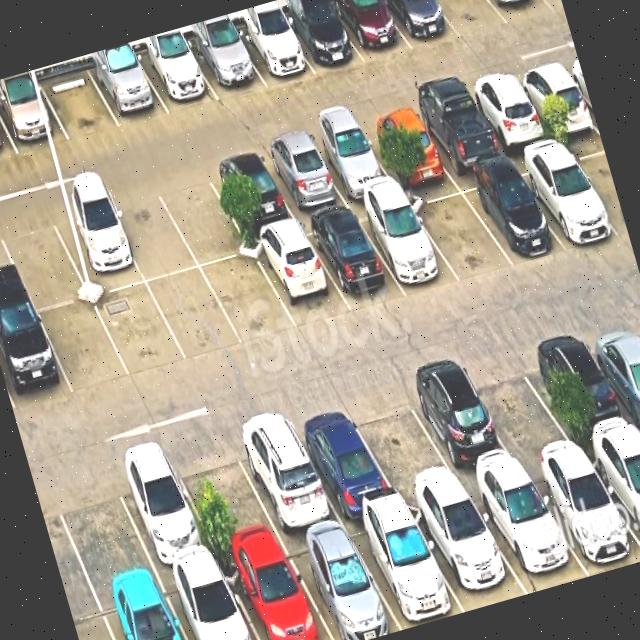empty: (460, 343, 580, 468), (165, 430, 282, 557), (45, 460, 155, 592), (343, 380, 462, 501), (405, 181, 513, 281), (153, 166, 251, 266), (104, 183, 198, 281), (93, 282, 188, 378), (147, 268, 243, 361), (38, 298, 130, 394), (0, 211, 88, 310), (201, 254, 297, 344), (561, 133, 628, 235), (38, 66, 120, 139), (434, 0, 507, 39)
occupied: (399, 360, 523, 487), (226, 407, 342, 538), (344, 505, 464, 630), (467, 471, 589, 593), (105, 444, 218, 573), (407, 490, 527, 611), (284, 396, 400, 520), (526, 454, 640, 576), (281, 525, 401, 640), (529, 325, 640, 449), (509, 144, 620, 247), (219, 542, 332, 640), (249, 224, 351, 330), (455, 165, 563, 264), (301, 209, 405, 311), (353, 195, 459, 292), (47, 196, 145, 296), (159, 559, 258, 640), (204, 150, 297, 236), (409, 91, 505, 174), (0, 308, 73, 412), (257, 136, 348, 218), (305, 123, 396, 202), (358, 107, 451, 184), (579, 312, 640, 426), (464, 74, 553, 152), (512, 60, 597, 136), (279, 1, 364, 73), (87, 54, 169, 126), (585, 433, 640, 540), (134, 43, 218, 113), (96, 576, 187, 640), (231, 18, 315, 86), (187, 31, 265, 99), (328, 0, 412, 62), (0, 79, 68, 154), (382, 0, 460, 49), (490, 0, 554, 23)
